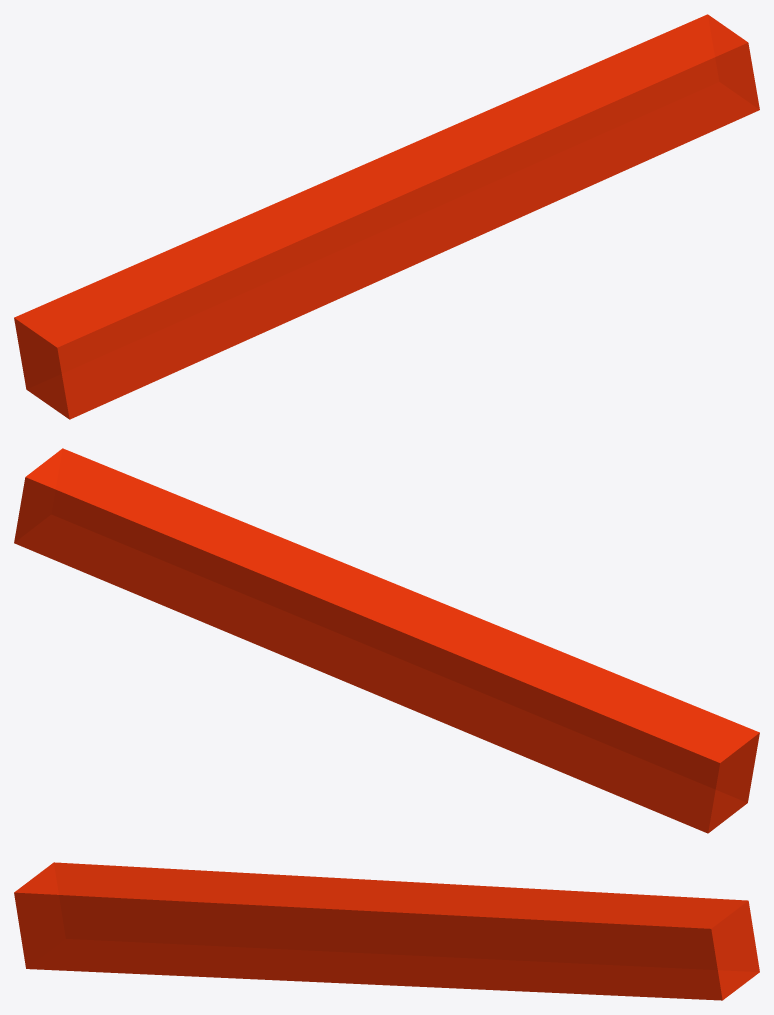
File: Event_420604493_EErechit_40.fbx
3 views of the same model, one above another, from view 1: azimuth 30°, elevation 25°; view 2: azimuth 150°, elevation 25°; view 3: azimuth 330°, elevation 25° (orthographic). The views are drawn at different scales.
Parts seen in each view (by area): view 1: Model; view 2: Model; view 3: Model.
Boxes of the visible parts, left/top/right/bottom form: Model: left=14, top=14, right=759, bottom=419; Model: left=14, top=448, right=759, bottom=833; Model: left=14, top=862, right=759, bottom=1000.
Size of the model in its own units: 0.7598 by 0.2051 by 0.0916.
